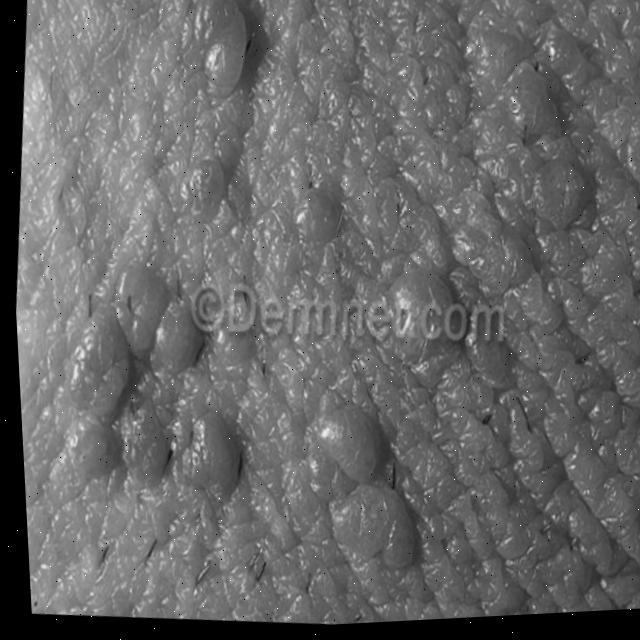Shingles: (38, 0, 624, 594)
